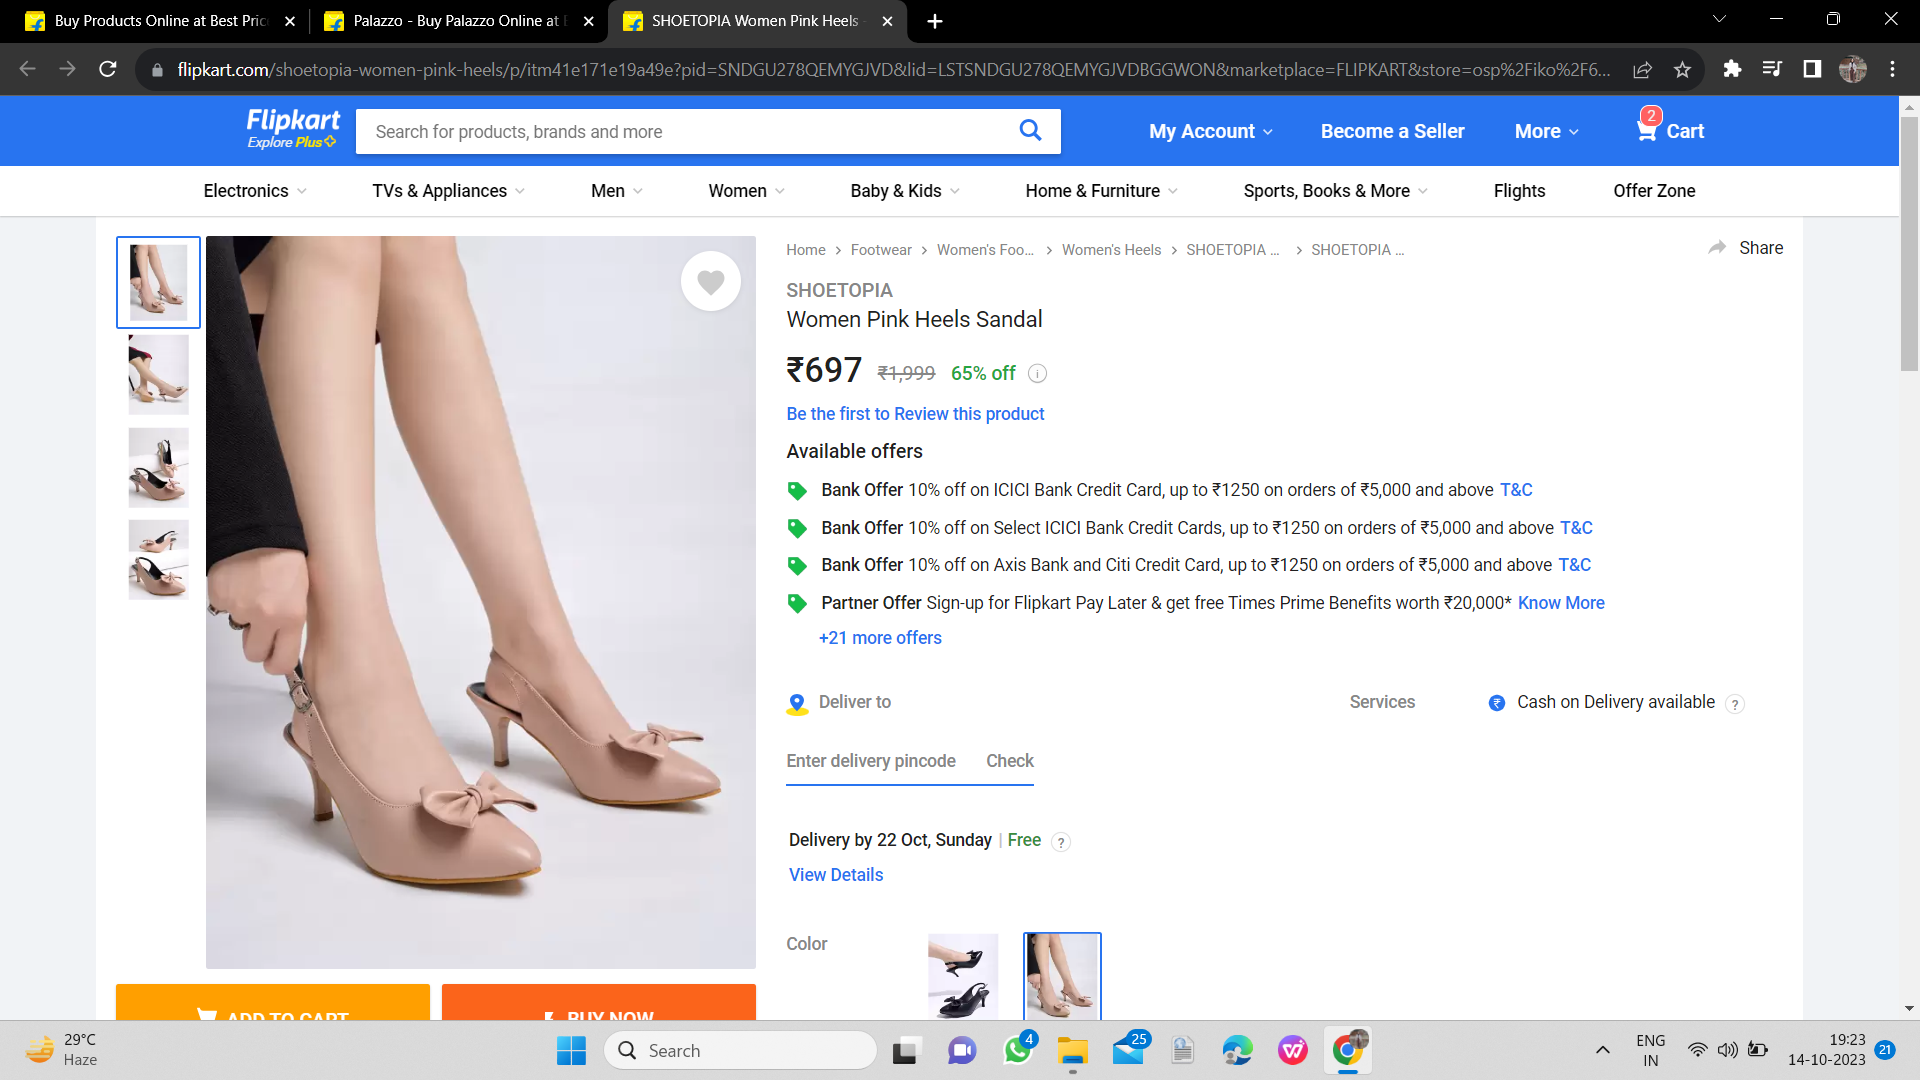Image: (228, 235, 749, 903), (889, 923, 1116, 1021)
Paragraph: (781, 475, 1615, 665), (1146, 105, 1720, 157), (777, 684, 1042, 773), (785, 281, 1051, 336), (777, 349, 1072, 393), (1327, 688, 1716, 716), (770, 401, 1062, 430), (774, 818, 990, 852), (777, 434, 930, 471), (766, 932, 844, 960)
